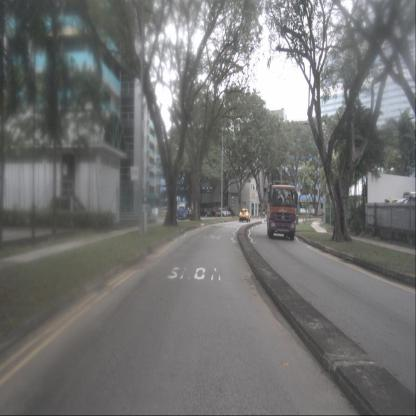vehicle-car: (239, 208, 251, 222), (216, 208, 231, 217), (200, 208, 211, 218), (208, 208, 220, 216), (213, 209, 224, 217)
vehicle-truck: (267, 181, 298, 240), (176, 201, 195, 220)
